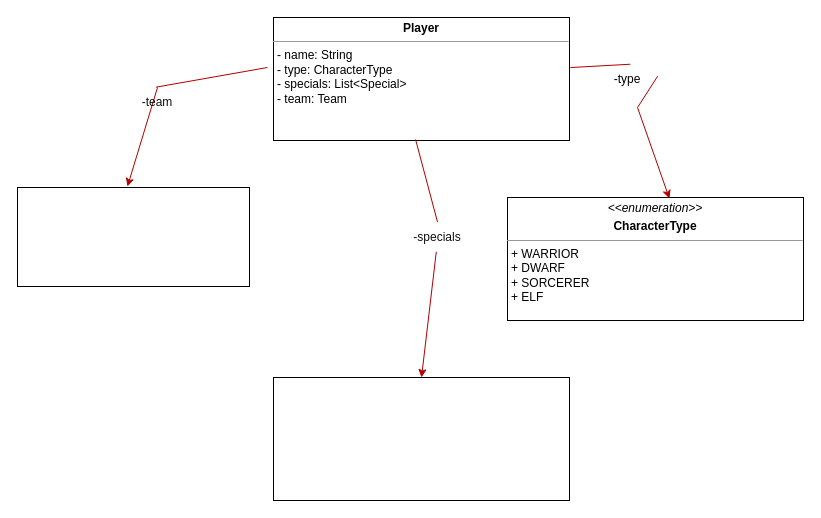
The diagram is 821 pixels wide and 518 high, and some of its shapes have lost their labels. Here are the shapes that lost their labels. From the top down, the centre of each, then its label:
At point (133, 236): "Team - Name: String - nrOfMembers: Integer".
At point (421, 438): "<<enumeration>> Special + MAGIC WAND + EXTRA_POWER + FAIRY DUST + INVISIBILITY".
